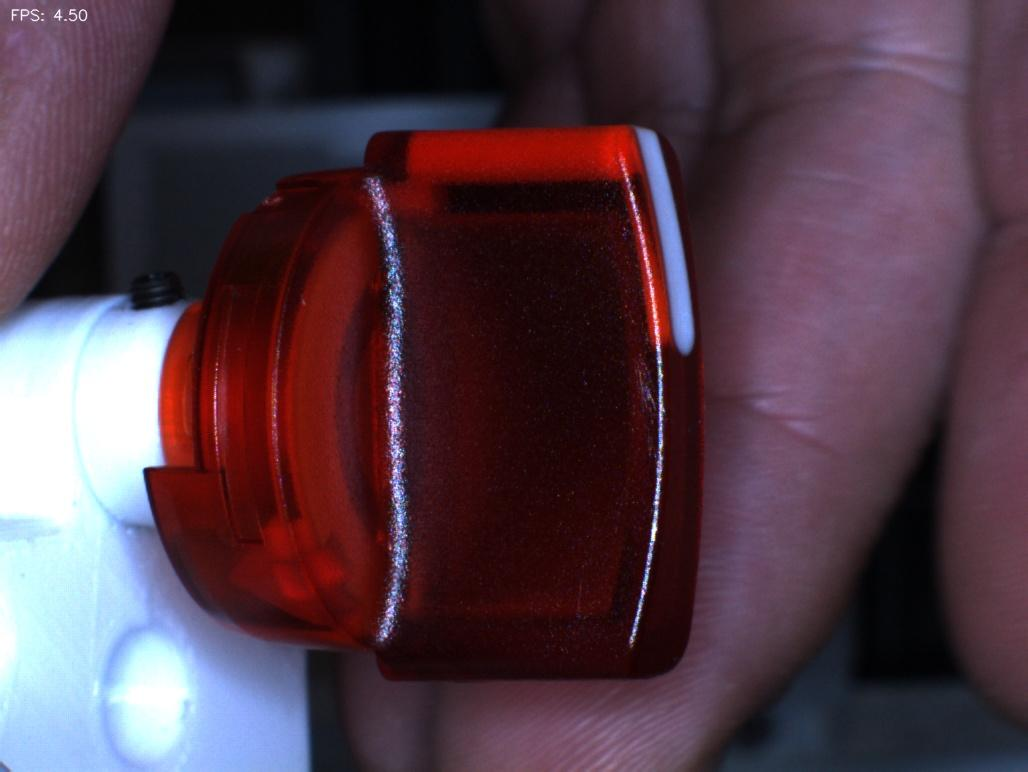Givrage: (594, 324, 678, 460)
